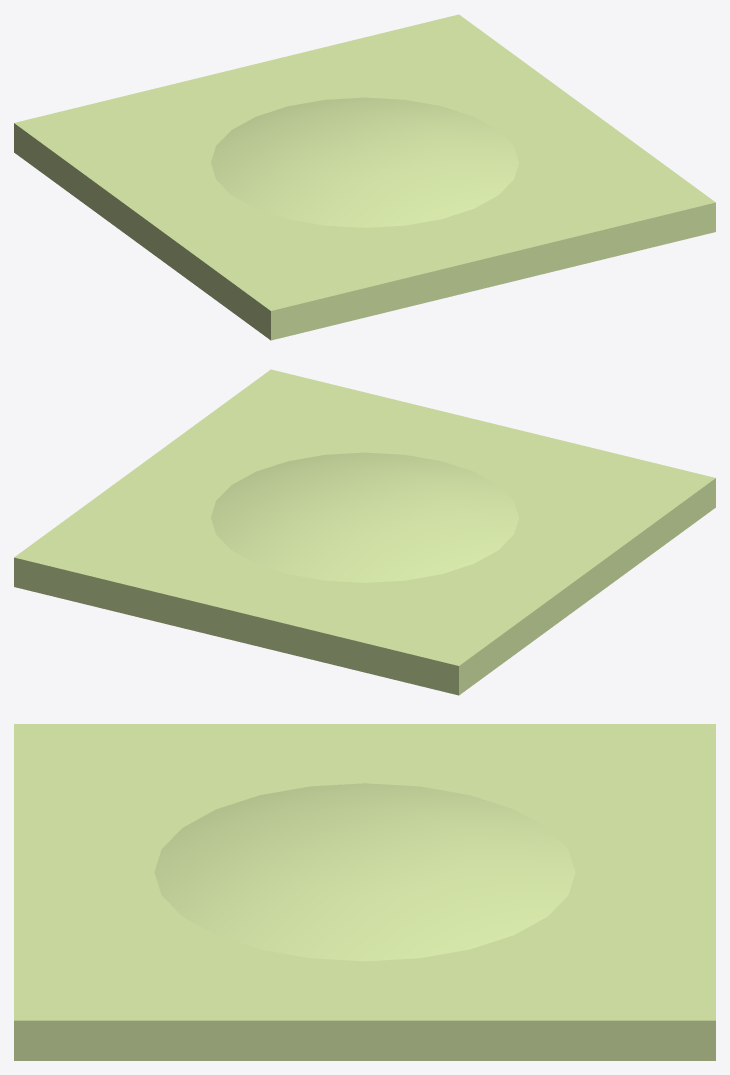
Rendered from bump.fbx.
3 renders of one model, top to bottom at view 1: azimuth 30°, elevation 25°; view 2: azimuth 150°, elevation 25°; view 3: azimuth 270°, elevation 25°, orthographic. The views are drawn at different scales.
Parts seen in each view (by area): view 1: bump; view 2: bump; view 3: bump.
Boxes of the visible parts, x1,y1,x2,y2 form: bump: (14, 14, 715, 340); bump: (14, 369, 715, 695); bump: (14, 724, 715, 1060).
Size of the model in its own units: 99.99 by 9.67 by 99.99.
